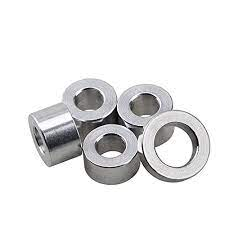No thread: (150, 124, 201, 174), (91, 131, 130, 162), (68, 87, 112, 113), (28, 123, 56, 162), (126, 93, 163, 119)
